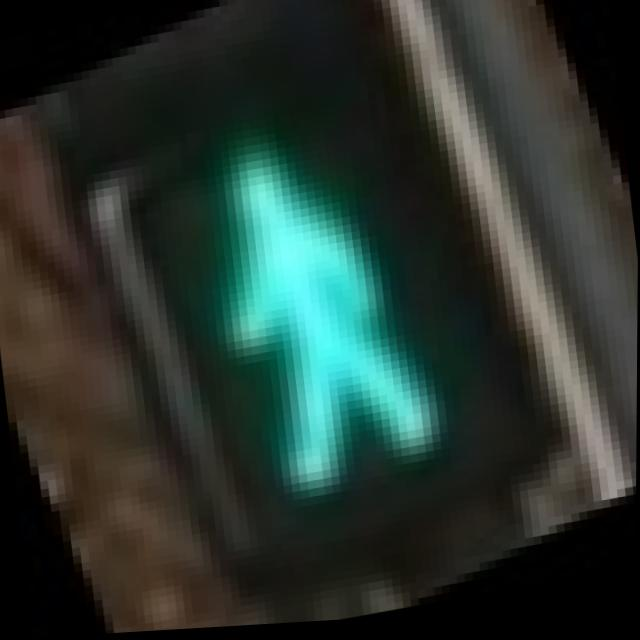green_light: (65, 32, 551, 614)
